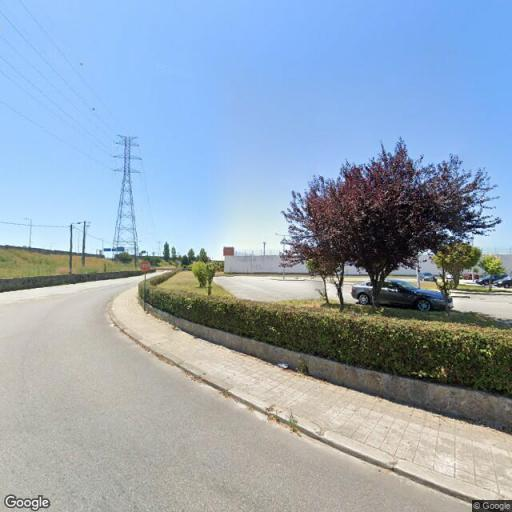ss_3: (114, 132, 144, 259)
